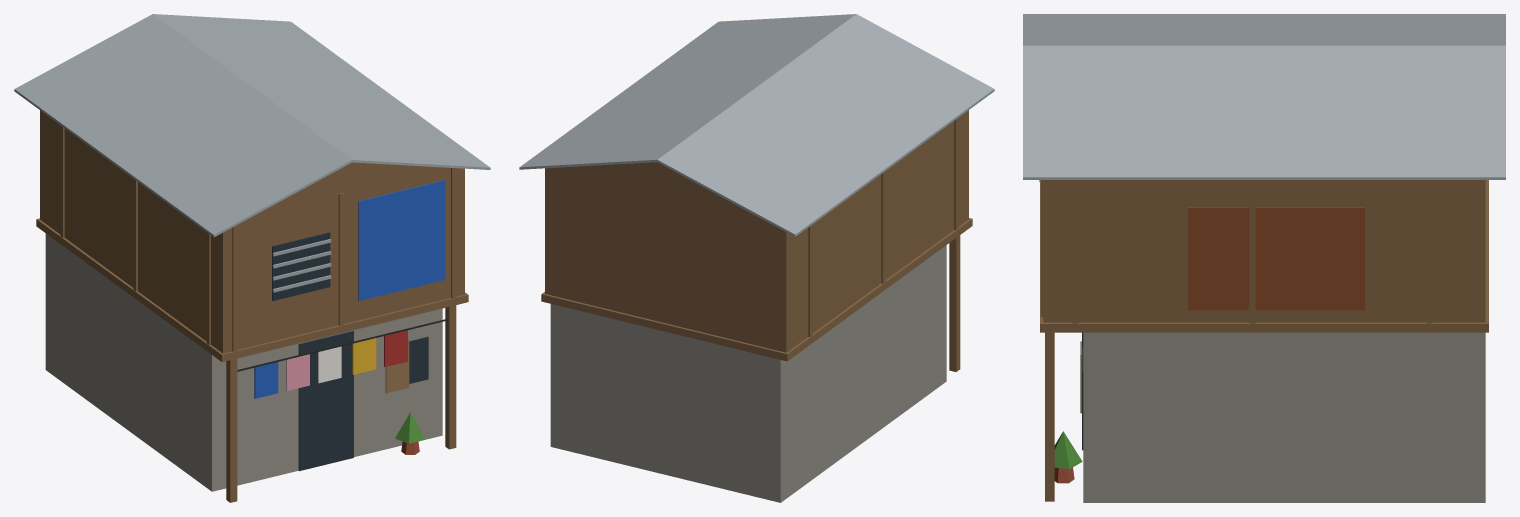
File: BAY_I_Shanty2F_I.glb
The picture shows the model from 3 angles, left to right: view 1: azimuth 30°, elevation 25°; view 2: azimuth 150°, elevation 25°; view 3: azimuth 270°, elevation 25°; orthographic projection. The views are drawn at different scales.
Parts seen in each view (by area): view 1: BAY_I_Shanty2F_I; view 2: BAY_I_Shanty2F_I; view 3: BAY_I_Shanty2F_I.
Boxes of the visible parts, x1,y1,x2,y2 form: BAY_I_Shanty2F_I: [14, 14, 490, 502]; BAY_I_Shanty2F_I: [519, 14, 994, 502]; BAY_I_Shanty2F_I: [1023, 14, 1505, 502].
Size of the model in its own units: 4.8 by 5.34 by 6.
1 material, 1 textured.
